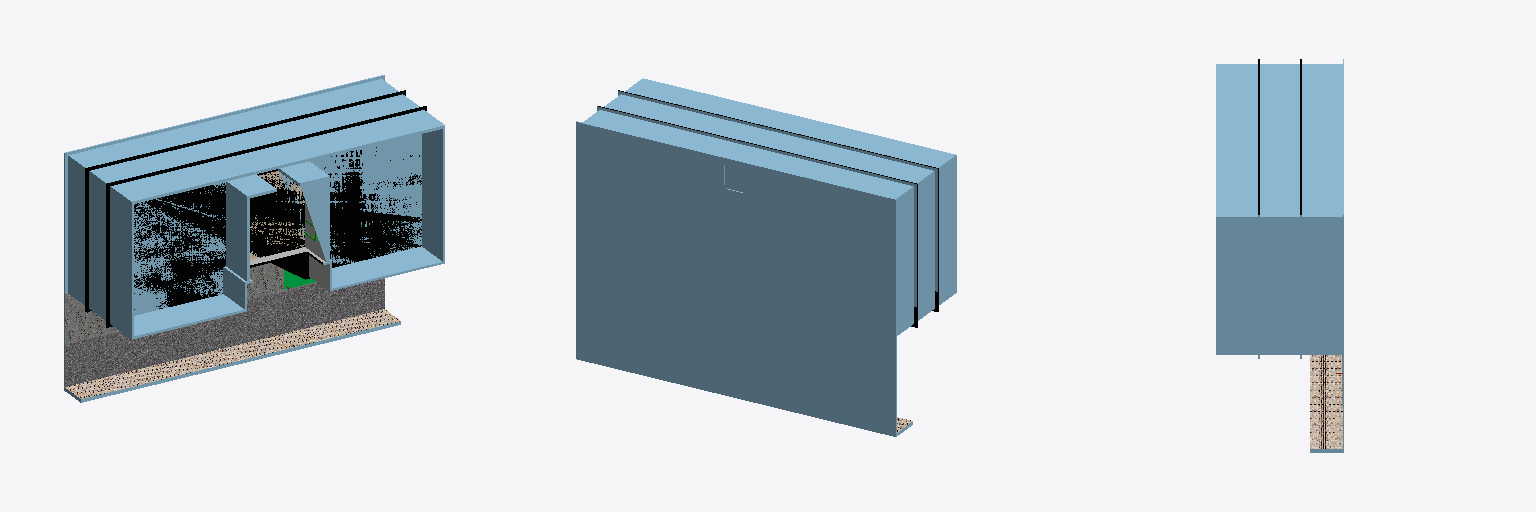
3 renders of one model, left to right at view 1: azimuth 30°, elevation 25°; view 2: azimuth 150°, elevation 25°; view 3: azimuth 270°, elevation 25°, orthographic.
Visible parts, largest first — view 1: Floor_2_Floor_1_Plane.001, Lobby_Plane.001, Floor_1_Floor_1_Plane.002; view 2: Lobby_Plane.001, Floor_2_Floor_1_Plane.001, Floor_1_Floor_1_Plane.002; view 3: Lobby_Plane.001, Floor_2_Floor_1_Plane.001, Floor_1_Floor_1_Plane.002.
Boxes of the visible parts, <box> form: Floor_2_Floor_1_Plane.001: <box>106,106,444,339</box>; Lobby_Plane.001: <box>64,75,400,402</box>; Floor_1_Floor_1_Plane.002: <box>85,90,419,320</box>; Lobby_Plane.001: <box>576,110,913,436</box>; Floor_2_Floor_1_Plane.001: <box>618,78,956,311</box>; Floor_1_Floor_1_Plane.002: <box>597,94,934,327</box>; Lobby_Plane.001: <box>1302,59,1343,452</box>; Floor_2_Floor_1_Plane.001: <box>1216,59,1259,358</box>; Floor_1_Floor_1_Plane.002: <box>1260,59,1301,358</box>.
Size of the model in its own units: 35 by 24.8 by 12.15.
Materials: 25 (10 with a texture image).